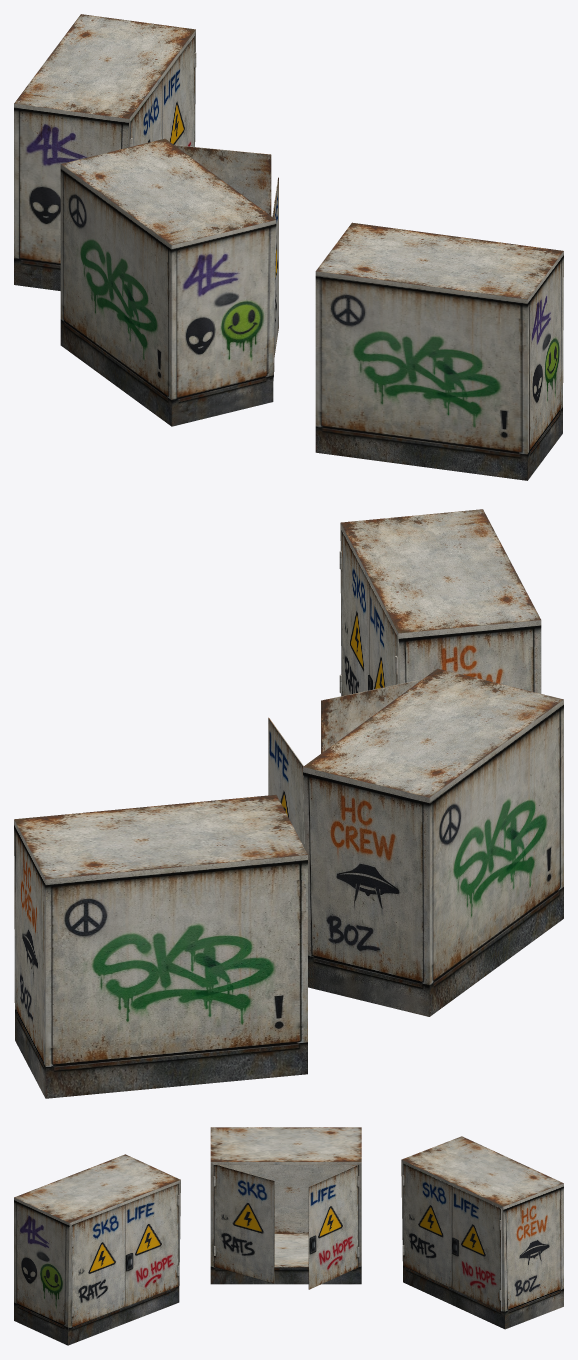
The model's file is urban_fuse_box.glb.
3 renders of one model, top to bottom at view 1: azimuth 30°, elevation 25°; view 2: azimuth 150°, elevation 25°; view 3: azimuth 270°, elevation 25°, orthographic. The views are drawn at different scales.
Visible parts, largest first — view 1: BOXBase, Box.001, Box, Door, door2; view 2: Box, Box.001, BOXBase, Door.002, door2, Door, Door.001; view 3: Box, BOXBase, Box.001, door2, Door.002, Door.001, Door.
Part boxes in pixels (box(x1,y1,x2,y2)): BOXBase: box(315, 222, 563, 480); Box.001: box(60, 138, 276, 426); Box: box(14, 14, 196, 290); Door: box(174, 145, 271, 215); door2: box(272, 177, 278, 356); Box: box(14, 794, 307, 1098); Box.001: box(303, 668, 563, 1016); BOXBase: box(340, 509, 541, 693); Door.002: box(341, 530, 369, 696); door2: box(321, 679, 422, 753); Door: box(268, 717, 304, 847); Door.001: box(369, 583, 397, 689); Box: box(401, 1136, 563, 1329); BOXBase: box(14, 1154, 180, 1345); Box.001: box(210, 1127, 361, 1284); door2: box(213, 1165, 274, 1283); Door.002: box(72, 1204, 125, 1327); Door.001: box(125, 1183, 178, 1306); Door: box(308, 1165, 359, 1289).
Size of the model in its own units: 10.22 by 6.14 by 24.81.
1 material, 1 textured.
